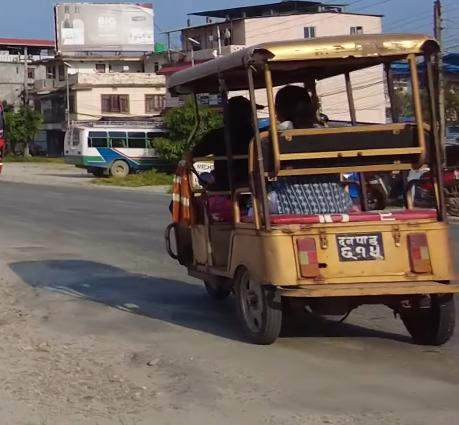bus: (61, 114, 169, 182)
e-rickshaw: (158, 31, 459, 360)
